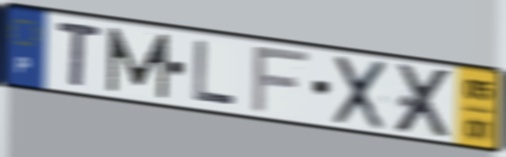F: (248, 45, 314, 116)
L: (191, 37, 239, 109)
M: (106, 24, 173, 101)
T: (55, 18, 104, 91)
X: (392, 62, 456, 140), (331, 53, 390, 133)
